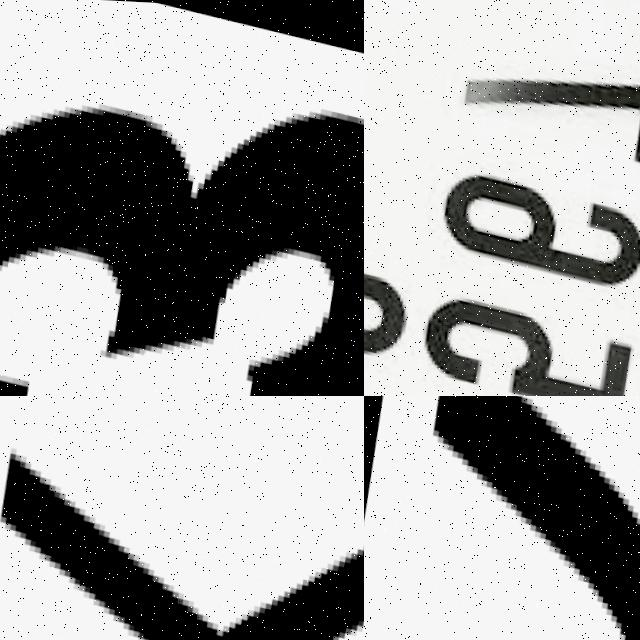3: (0, 4, 364, 396)
5: (412, 283, 638, 396)
6: (431, 156, 640, 294)
7: (453, 37, 640, 170)
9: (364, 233, 415, 363)
R: (364, 396, 640, 640)
X: (0, 396, 364, 640)
